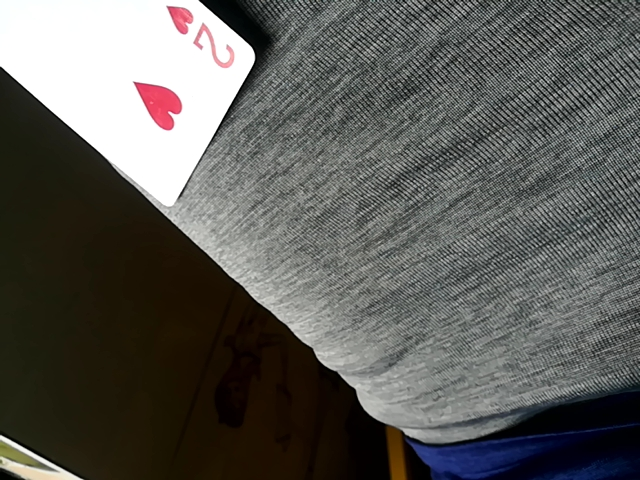hx 2: (1, 0, 259, 213)
